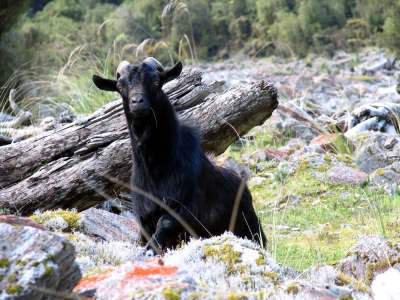goat: (92, 56, 269, 256)
